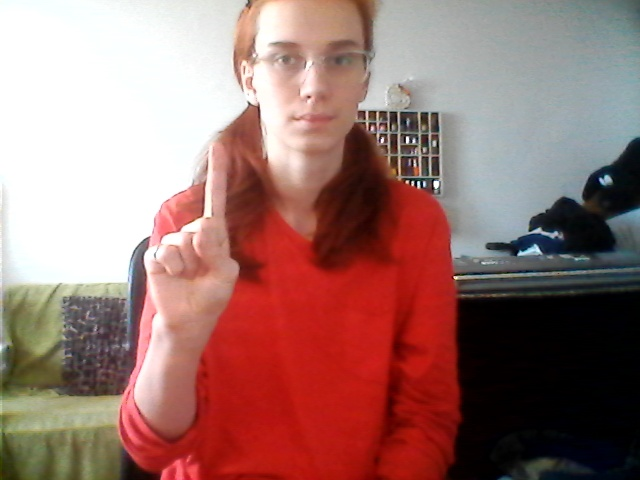i: (135, 136, 271, 334)
